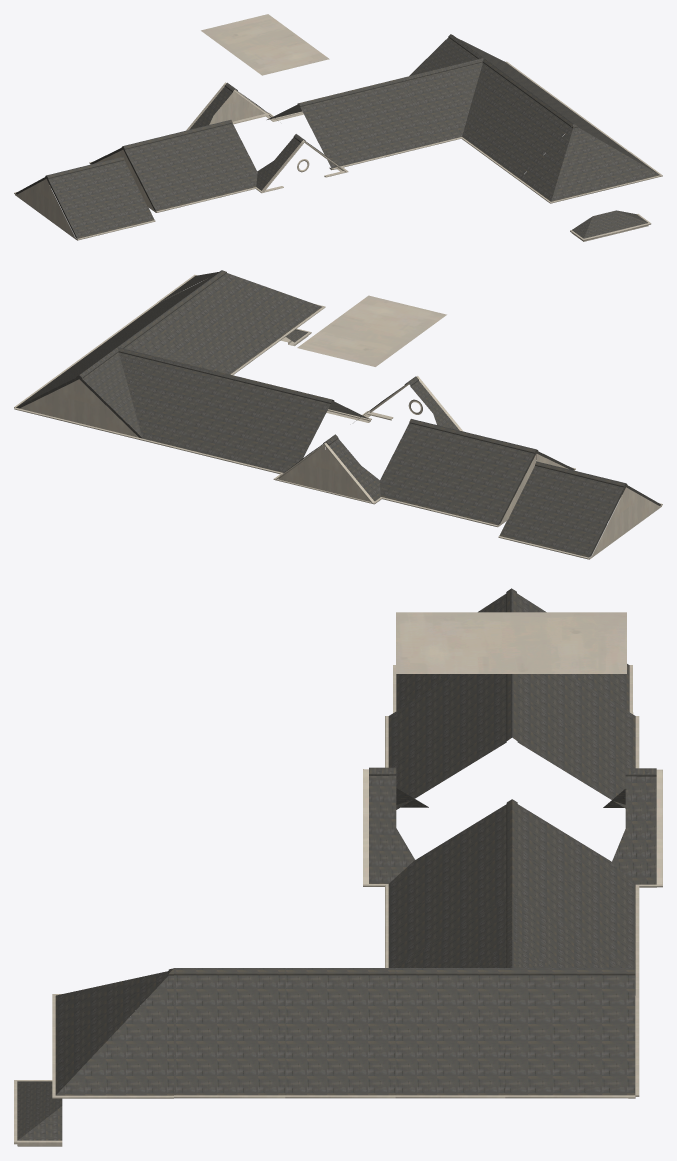
The model's file is Techo_Fachada.obj.
3 renders of one model, top to bottom at view 1: azimuth 30°, elevation 25°; view 2: azimuth 150°, elevation 25°; view 3: azimuth 270°, elevation 25°, orthographic. The views are drawn at different scales.
Visible parts, largest first — view 1: Techo_Fachada; view 2: Techo_Fachada; view 3: Techo_Fachada.
Boxes of the visible parts, x1=… form: Techo_Fachada: x1=14, y1=14, x2=662, y2=241; Techo_Fachada: x1=14, y1=270, x2=662, y2=559; Techo_Fachada: x1=14, y1=588, x2=662, y2=1146.
Bounding box in the file's own units: 49.11 × 13.89 × 29.85.
Materials: 19 (19 with a texture image).
